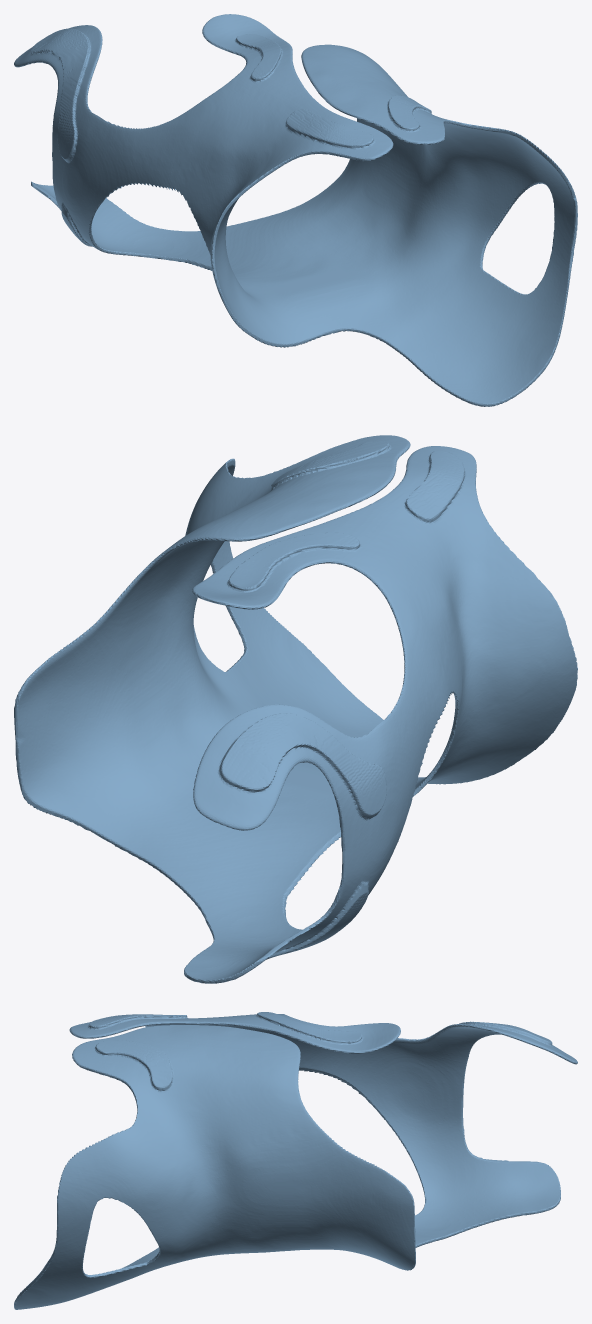
The model's file is cheneau.glb.
3 renders of one model, top to bottom at view 1: azimuth 30°, elevation 25°; view 2: azimuth 150°, elevation 25°; view 3: azimuth 270°, elevation 25°, orthographic. The views are drawn at different scales.
Parts seen in each view (by area): view 1: Cheneau Arnaud Bazile septembre 2025; view 2: Cheneau Arnaud Bazile septembre 2025; view 3: Cheneau Arnaud Bazile septembre 2025.
Part boxes in pixels (x1,y1,x2,y2): Cheneau Arnaud Bazile septembre 2025: [14, 14, 577, 406]; Cheneau Arnaud Bazile septembre 2025: [14, 435, 577, 983]; Cheneau Arnaud Bazile septembre 2025: [14, 1012, 577, 1309].
Size of the model in its own units: 313 by 249 by 509.
